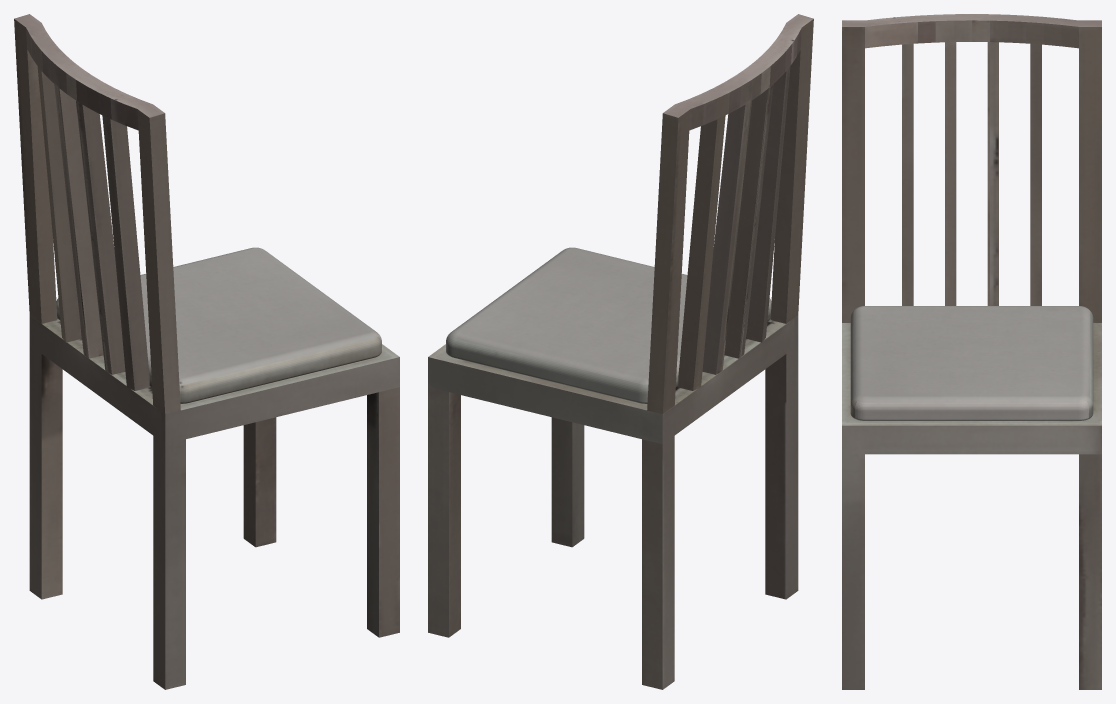
3 views of the same model, side by side, from view 1: azimuth 30°, elevation 25°; view 2: azimuth 150°, elevation 25°; view 3: azimuth 270°, elevation 25° (orthographic). The views are drawn at different scales.
Visible parts, largest first — view 1: Node; view 2: Node; view 3: Node.
Boxes of the visible parts, <box> form: Node: <box>14,14,399,689</box>; Node: <box>428,14,813,689</box>; Node: <box>842,14,1101,689</box>.
Bounding box in the file's own units: 0.3378 × 0.7 × 0.2981.
1 material, 1 textured.
